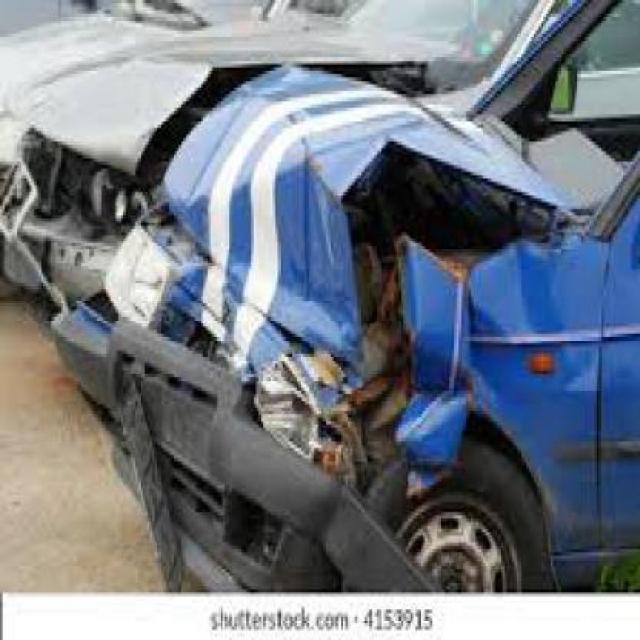damaged-hood: (169, 65, 566, 313)
